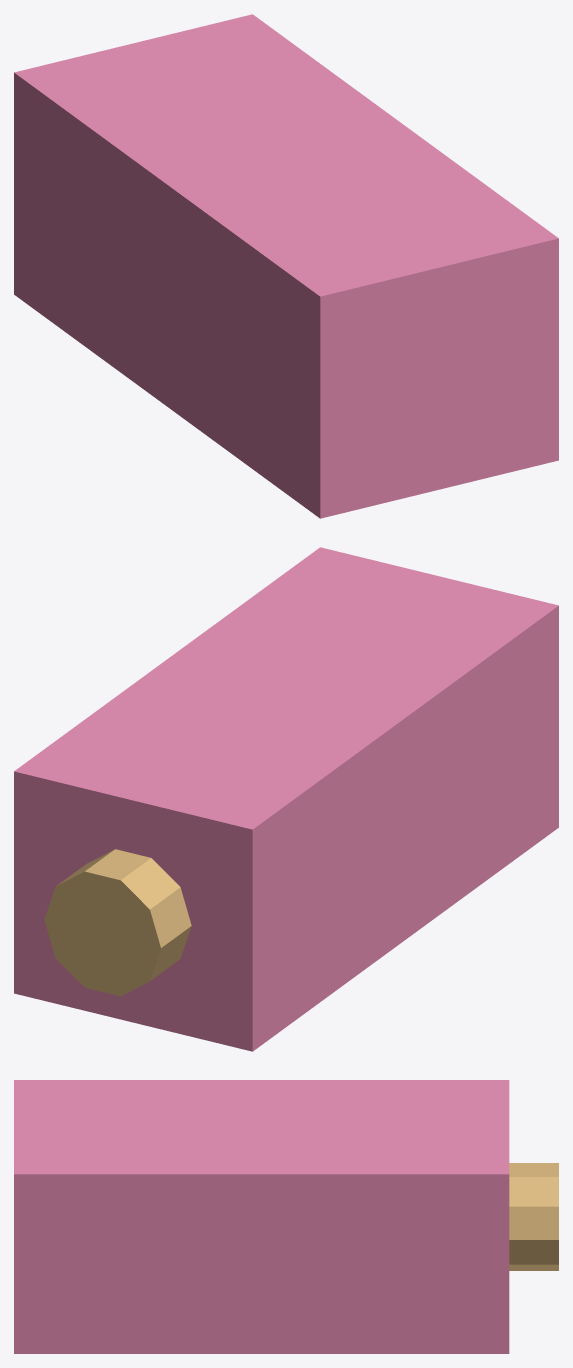
The model's file is SteadyLaser.obj.
The picture shows the model from 3 angles, top to bottom: view 1: azimuth 30°, elevation 25°; view 2: azimuth 150°, elevation 25°; view 3: azimuth 270°, elevation 25°; orthographic projection. The views are drawn at different scales.
Parts seen in each view (by area): view 1: SteadyLaser_Body; view 2: SteadyLaser_Body, SteadyLaser_Detail; view 3: SteadyLaser_Body, SteadyLaser_Detail.
Part boxes in pixels (box(x1,y1,x2,y2)): SteadyLaser_Body: box(14, 14, 558, 518); SteadyLaser_Body: box(14, 547, 558, 1051); SteadyLaser_Detail: box(44, 849, 191, 996); SteadyLaser_Body: box(14, 1080, 509, 1353); SteadyLaser_Detail: box(509, 1163, 558, 1270).
Size of the model in its own units: 0.09 by 0.08 by 0.22.
